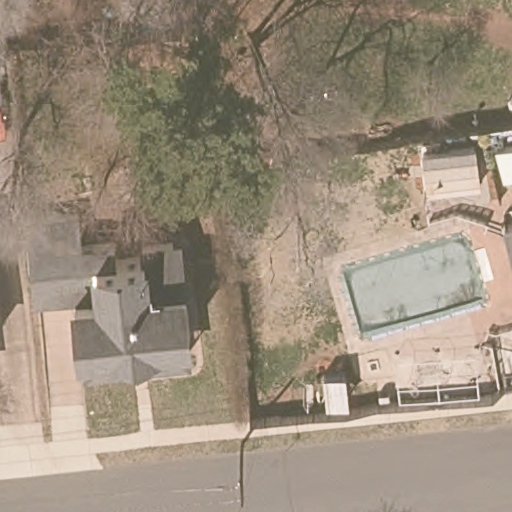DT: (233, 441, 248, 508)
